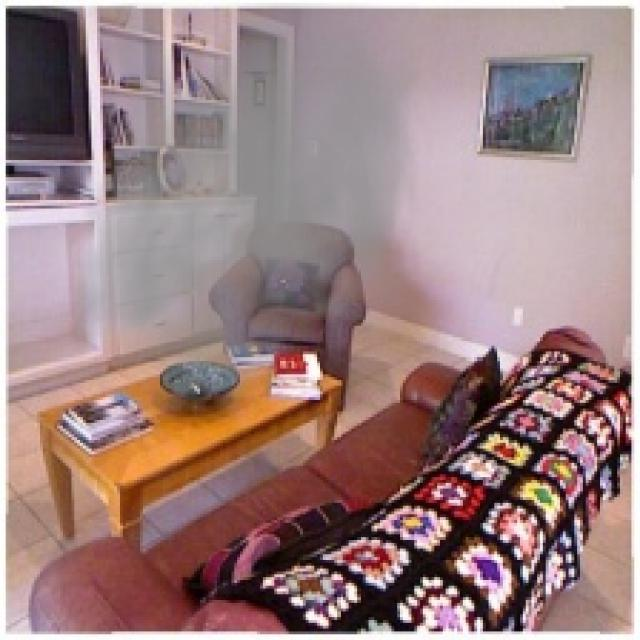Smoke: (77, 2, 420, 414)
